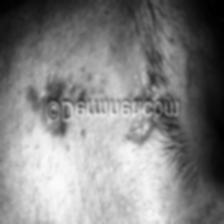Toxin: (116, 122, 162, 146), (34, 76, 74, 94), (0, 137, 6, 180)
